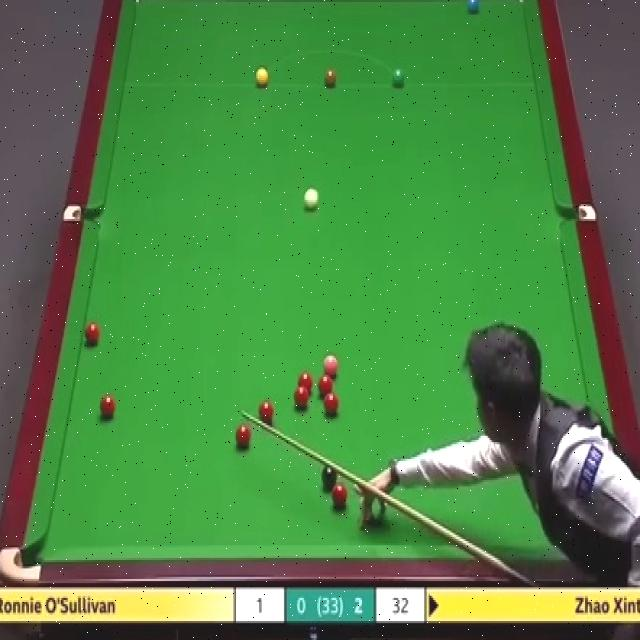black-ball: (321, 464, 336, 488)
blue-ball: (466, 0, 479, 17)
brown-ball: (324, 68, 338, 88)
green-ball: (391, 68, 406, 90)
pink-ball: (323, 354, 339, 381)
red-ball: (234, 422, 252, 450), (317, 371, 334, 398), (324, 390, 339, 420), (83, 322, 101, 346), (258, 398, 274, 424), (331, 483, 348, 507), (298, 371, 313, 398), (101, 394, 114, 419), (295, 386, 308, 407)
white-ball: (302, 187, 320, 211)
yellow-ball: (254, 67, 270, 88)
